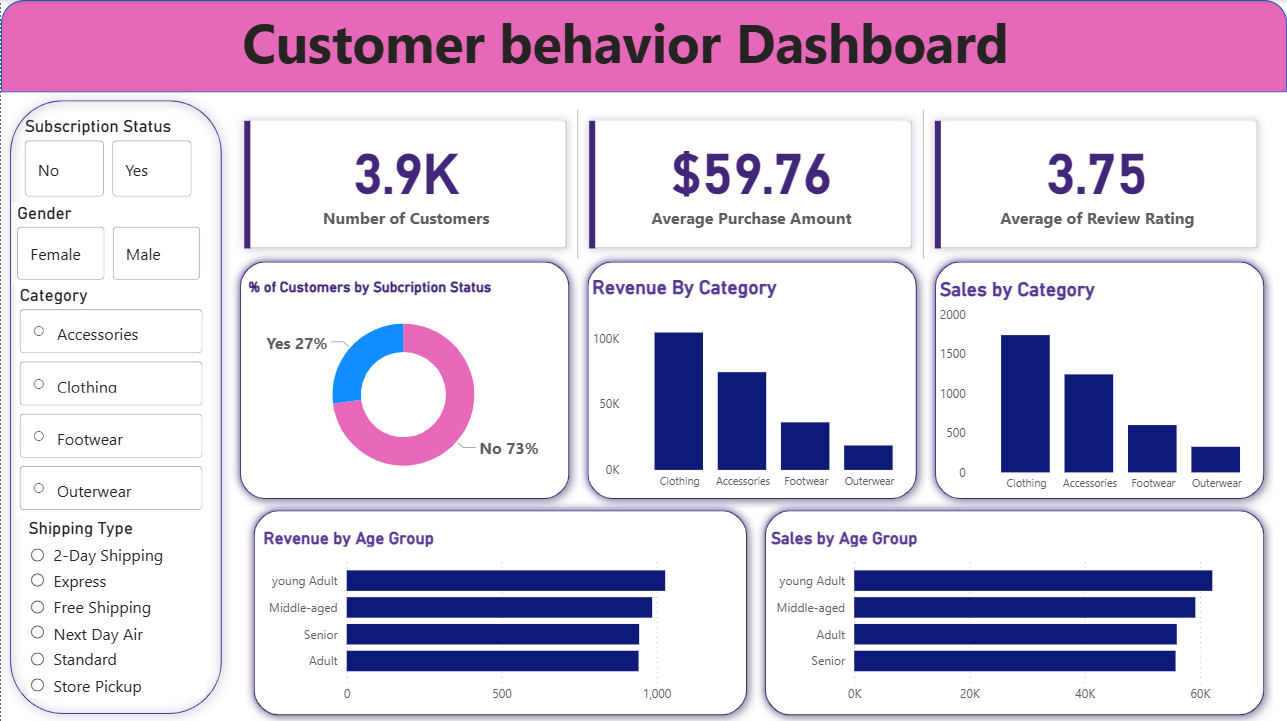

Layout of this report page (visuals, bound fields, positions):
{"tool":"powerbi","page":{"name":"Page 1","canvas":[1280,720],"ordinal":0},"visuals":[{"type":"cardVisual","fields":{"Data":["public customer.Number of Customers","public customer.Average Purchase Amount","public customer.Average of Review Rating"]},"box":[212.9,91.4,1067.1,185.7],"z":0},{"type":"shape","box":[0,0,1280,92.1],"z":1000},{"type":"textbox","box":[0,0,1242.7,92.1],"z":2000},{"type":"shape","box":[228.6,251.4,345.7,254.3],"z":3000},{"type":"donutChart","title":"% of Customers by Subcription Status","fields":{"Category":["public customer.subscription_status"],"Y":["CountNonNull(public customer.customer_id)"]},"box":[241.4,277.1,318.6,214.3],"z":4000},{"type":"shape","box":[574.3,251.4,345.7,254.3],"z":5000},{"type":"shape","box":[920,251.4,345.7,254.3],"z":6000},{"type":"clusteredColumnChart","title":"Revenue By Category","fields":{"Y":["Sum(public customer.purchase_amount)"],"Category":["public customer.category"]},"box":[583.6,274.5,336.4,220.9],"z":7000},{"type":"clusteredColumnChart","title":"Sales by Category","fields":{"Y":["public customer.Number of Customers"],"Category":["public customer.category"]},"box":[929.1,277.3,336.4,220.9],"z":8000},{"type":"shape","box":[0,91.2,228.8,628.8],"z":9000},{"type":"advancedSlicerVisual","title":"Subscription Status","fields":{"Values":["public customer.subscription_status"]},"box":[19.1,116.2,177.9,85.3],"z":10000},{"type":"advancedSlicerVisual","fields":{"Values":["public customer.category"]},"box":[13.2,283.8,192.6,230.9],"z":11000},{"type":"advancedSlicerVisual","fields":{"Values":["public customer.gender"]},"box":[11.8,201.5,192.6,82.4],"z":12000},{"type":"listSlicer","fields":{"Values":["public customer.shipping_type"]},"box":[27.9,514.7,176.5,182.4],"z":13000},{"type":"shape","box":[242.6,498.5,508.8,222.1],"z":14000},{"type":"shape","box":[751.5,498.5,514.7,222.1],"z":15000},{"type":"clusteredBarChart","title":"Sales by Age Group ","fields":{"Category":["public customer.age_group"],"Y":["Sum(public customer.purchase_amount)"]},"box":[761.8,525,504.4,183.8],"z":16000},{"type":"clusteredBarChart","title":"Revenue by Age Group","fields":{"Category":["public customer.age_group"],"Y":["CountNonNull(public customer.customer_id)"]},"box":[255.9,525,477.9,183.8],"z":17000}]}

Visuals, with their boxes in screenshot pixels (x1, y1, x2, y2), scaled from the page's 1280x720 canvas onto the 1287x721 screenshot:
cardVisual - public customer.Number of Customers x public customer.Average Purchase Amount: detection(214, 92, 1286, 277)
shape: detection(0, 0, 1286, 92)
textbox: detection(0, 0, 1249, 92)
shape: detection(230, 252, 577, 506)
"% of Customers by Subcription Status" donutChart: detection(243, 277, 563, 492)
shape: detection(577, 252, 925, 506)
shape: detection(925, 252, 1273, 506)
"Revenue By Category" clusteredColumnChart: detection(587, 275, 925, 496)
"Sales by Category" clusteredColumnChart: detection(934, 278, 1272, 499)
shape: detection(0, 91, 230, 720)
"Subscription Status" advancedSlicerVisual: detection(19, 116, 198, 202)
advancedSlicerVisual - public customer.category: detection(13, 284, 207, 515)
advancedSlicerVisual - public customer.gender: detection(12, 202, 206, 284)
listSlicer - public customer.shipping_type: detection(28, 515, 206, 698)
shape: detection(244, 499, 756, 720)
shape: detection(756, 499, 1273, 720)
"Sales by Age Group " clusteredBarChart: detection(766, 526, 1273, 710)
"Revenue by Age Group" clusteredBarChart: detection(257, 526, 738, 710)
